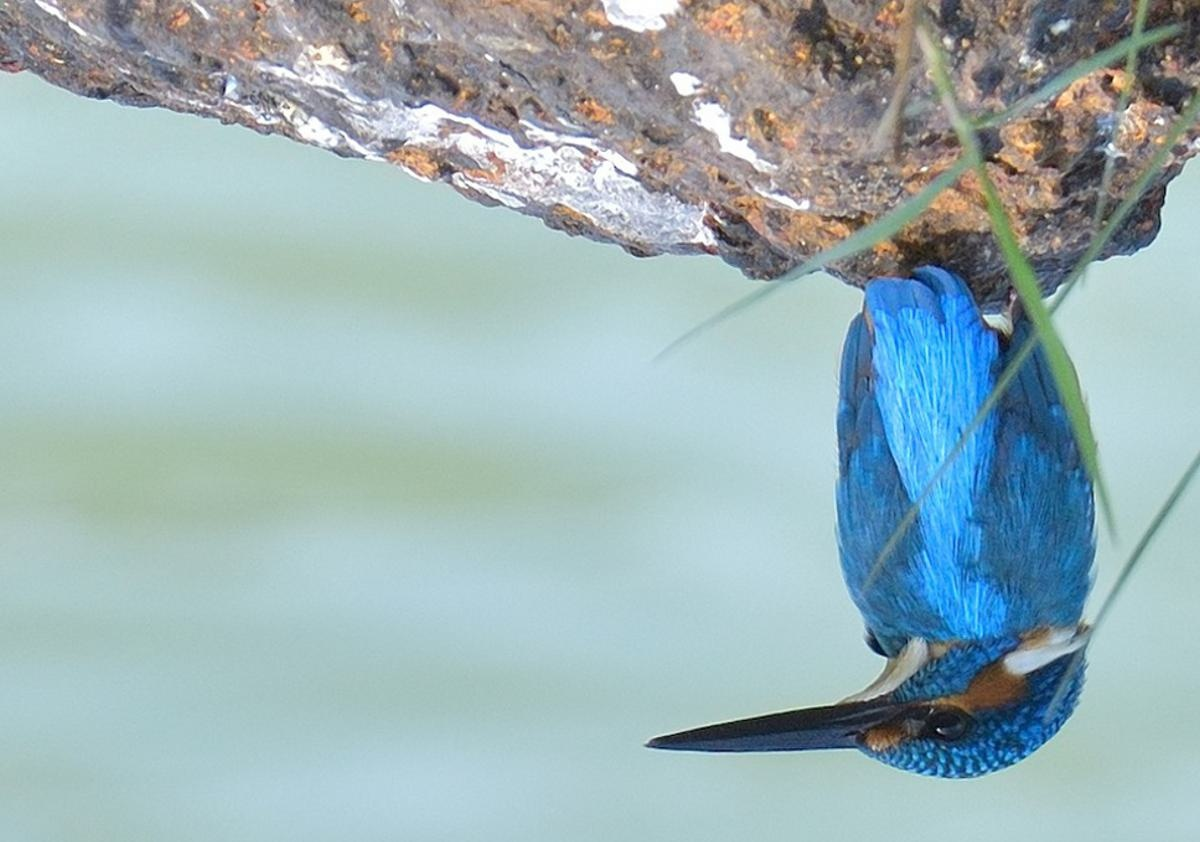kingfisher: (641, 258, 1110, 789)
